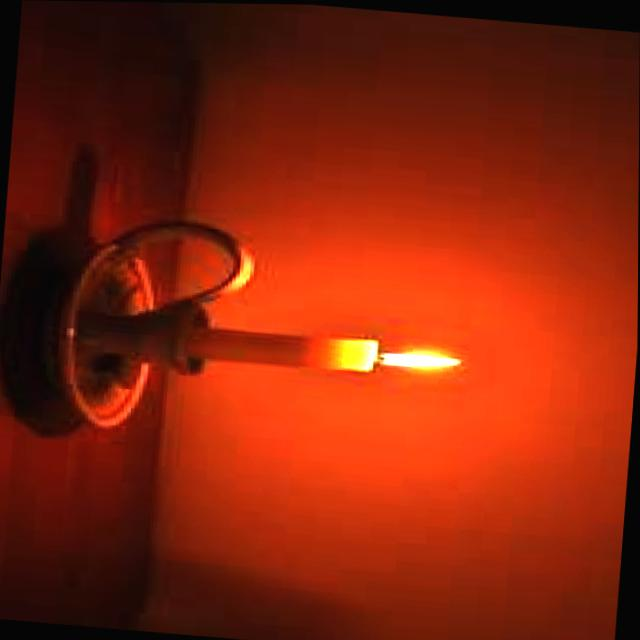helmet: (373, 339, 475, 375)
